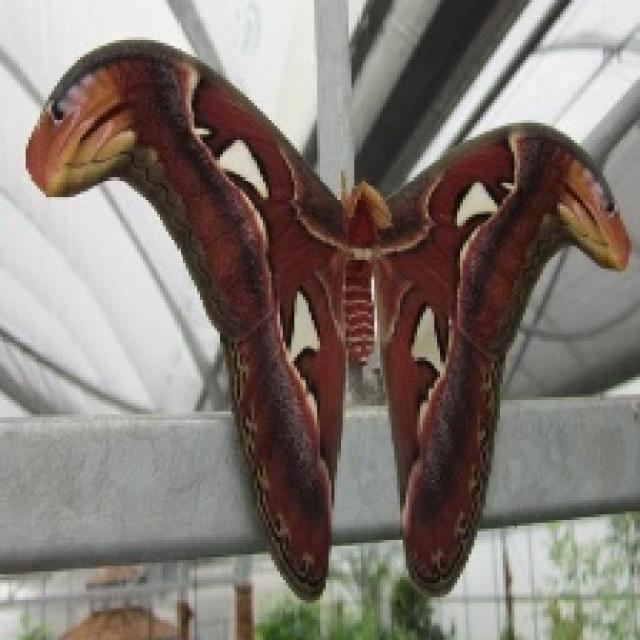butterfly: (20, 34, 631, 600)
